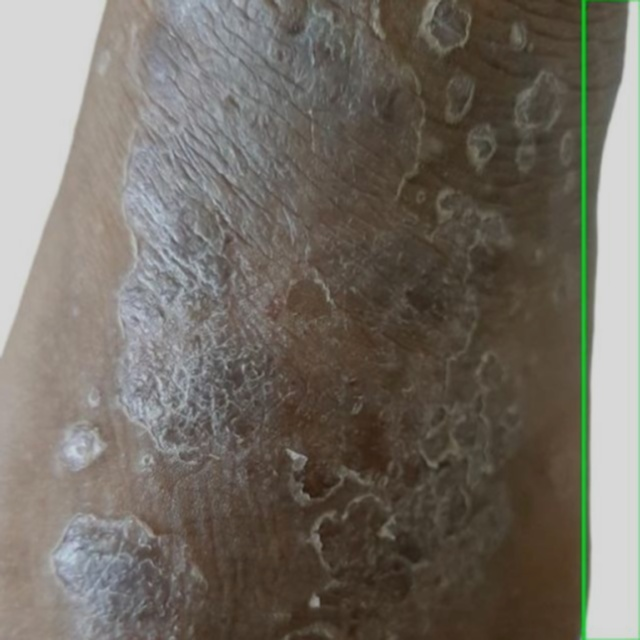Contact Dermatitis: (583, 0, 639, 639)
